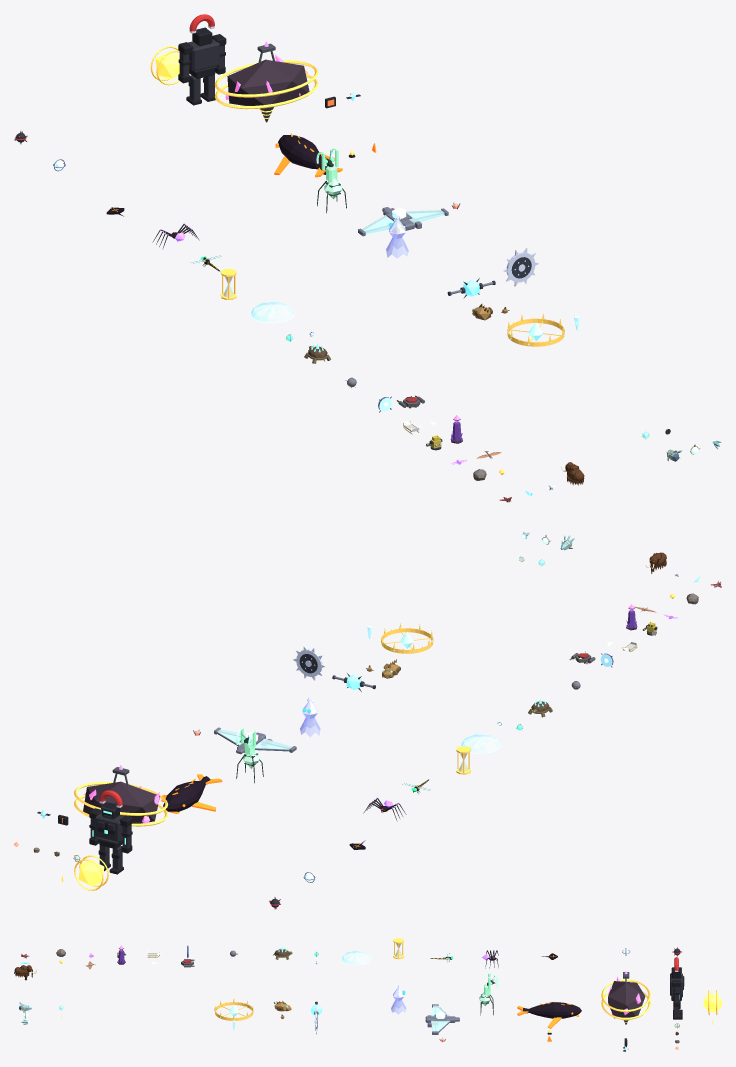
File: enemies.glb
3 views of the same model, one above another, from view 1: azimuth 30°, elevation 25°; view 2: azimuth 150°, elevation 25°; view 3: azimuth 270°, elevation 25° (orthographic). The views are drawn at different scales.
Visible parts, largest first — view 1: FM_Rock, WL_Body, CO_Torso; view 2: FM_Rock, WL_Body; view 3: FM_Rock, WL_Body, JC_Dome, FM_Band2, PS_Core, FM_Band-2.
Part boxes in pixels (bbox=[...]): FM_Rock: bbox=[227, 59, 309, 108]; WL_Body: bbox=[278, 135, 321, 169]; CO_Torso: bbox=[188, 39, 219, 71]; FM_Rock: bbox=[83, 781, 159, 823]; WL_Body: bbox=[163, 780, 205, 811]; FM_Rock: bbox=[608, 981, 645, 1018]; WL_Body: bbox=[528, 1002, 581, 1018]; JC_Dome: bbox=[342, 950, 370, 964]; FM_Band2: bbox=[601, 979, 650, 1011]; PS_Core: bbox=[703, 993, 721, 1012]; FM_Band-2: bbox=[601, 991, 650, 1019].
Bounding box in the file's own units: 111 × 29.9 × 330.
